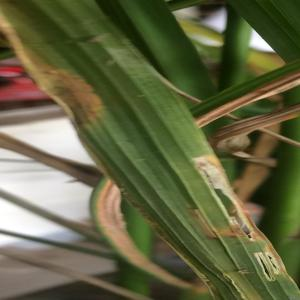Bacterial_Blight: (22, 1, 170, 177)
